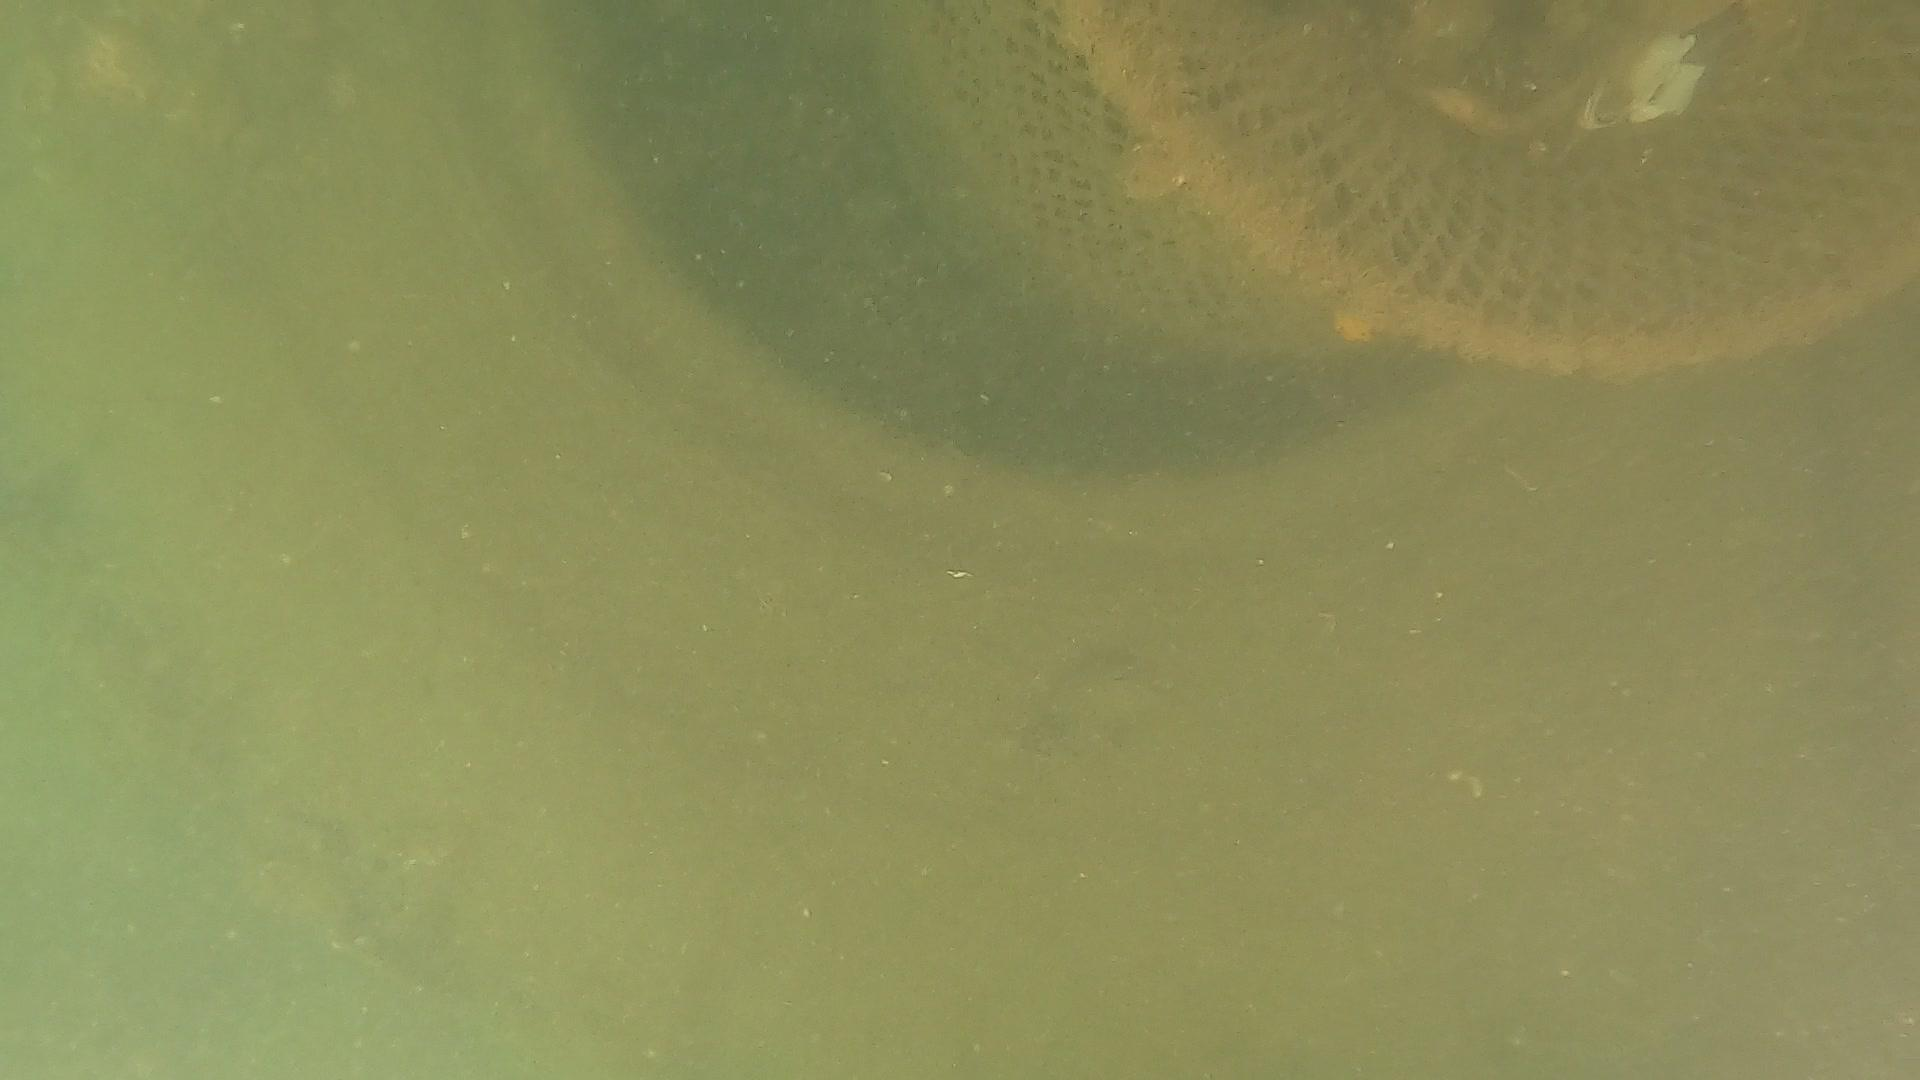circular fish trap: (893, 0, 1920, 375)
tire: (0, 0, 1920, 1080)
